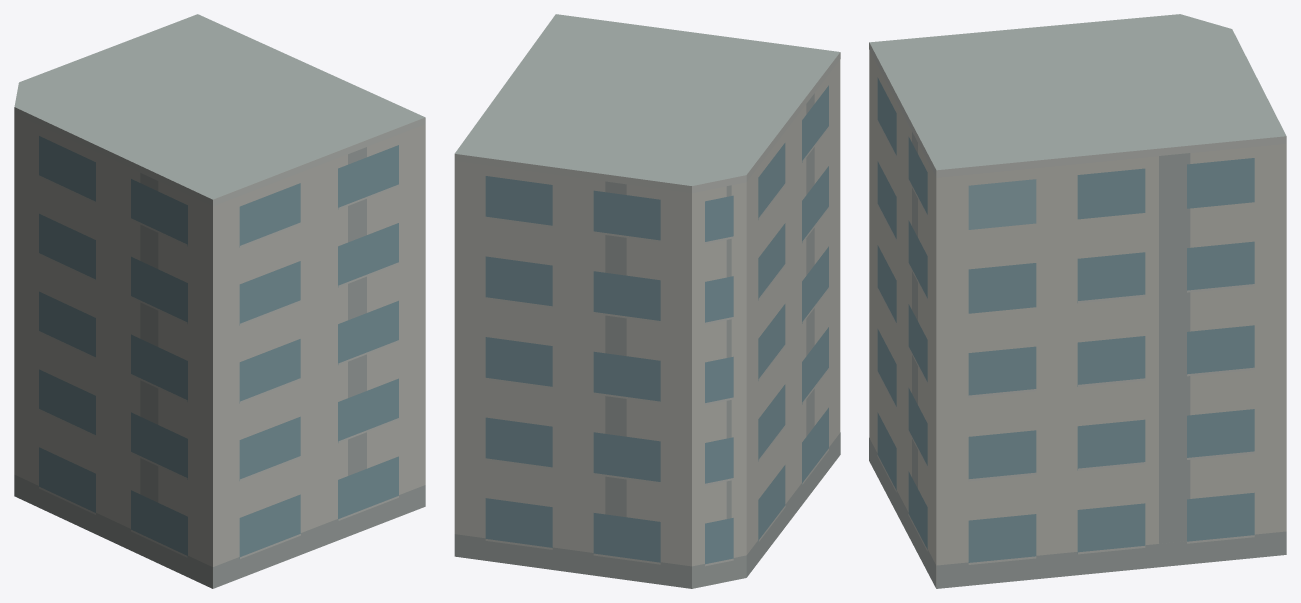
The model's file is survey-upis-32798805.glb.
The picture shows the model from 3 angles, left to right: view 1: azimuth 30°, elevation 25°; view 2: azimuth 150°, elevation 25°; view 3: azimuth 270°, elevation 25°; orthographic projection. The views are drawn at different scales.
Visible parts, largest first — view 1: survey-upis-32798805.tmp; view 2: survey-upis-32798805.tmp; view 3: survey-upis-32798805.tmp.
Part boxes in pixels (x1=…): survey-upis-32798805.tmp: x1=14, y1=14, x2=425, y2=588; survey-upis-32798805.tmp: x1=454, y1=14, x2=840, y2=588; survey-upis-32798805.tmp: x1=869, y1=14, x2=1286, y2=588.
Size of the model in its own units: 11.02 by 13.75 by 12.43.
